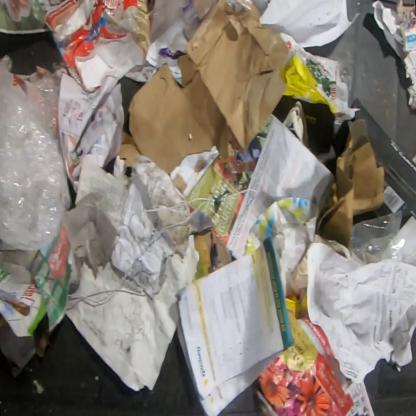cardboard: (116, 0, 292, 176), (42, 0, 158, 94), (245, 196, 335, 298), (316, 119, 385, 249), (350, 98, 415, 229), (284, 295, 307, 320)
soft_plastic: (0, 54, 74, 253), (349, 209, 406, 267)
